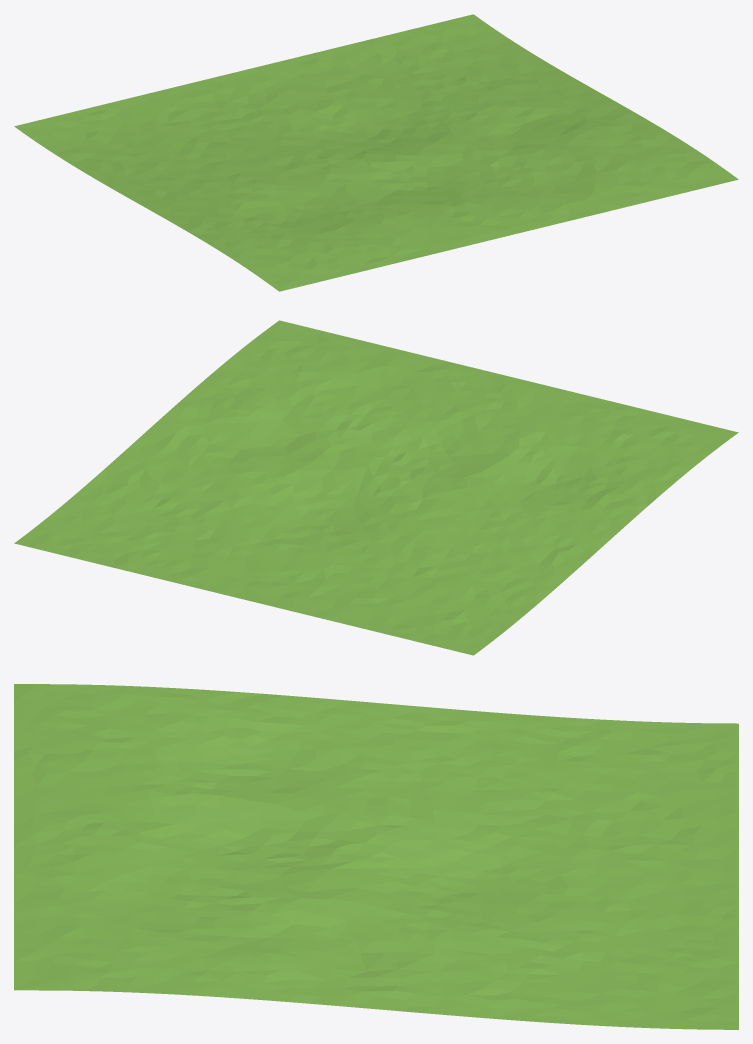
Rendered from MT_River_End_L_d_01.fbx.
The picture shows the model from 3 angles, top to bottom: view 1: azimuth 30°, elevation 25°; view 2: azimuth 150°, elevation 25°; view 3: azimuth 270°, elevation 25°; orthographic projection. The views are drawn at different scales.
Visible parts, largest first — view 1: MT_River_End_L_d_01; view 2: MT_River_End_L_d_01; view 3: MT_River_End_L_d_01.
Boxes of the visible parts, bbox=[...] form: MT_River_End_L_d_01: bbox=[14, 14, 738, 291]; MT_River_End_L_d_01: bbox=[14, 320, 738, 655]; MT_River_End_L_d_01: bbox=[14, 684, 738, 1029].
Size of the model in its own units: 10000 by 616 by 10000.
